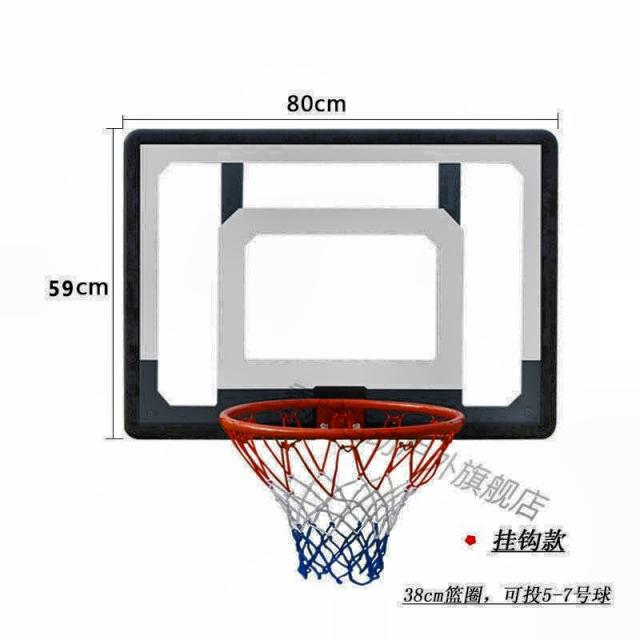rim: (218, 403, 462, 583)
